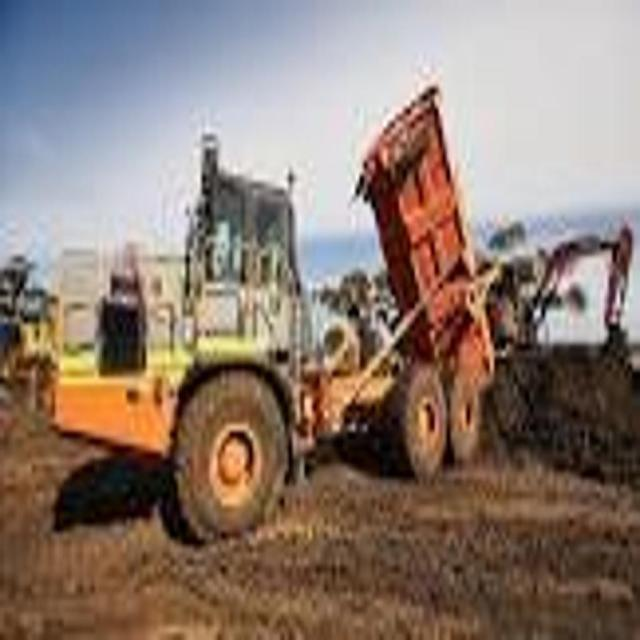dump_truck: (48, 79, 500, 539)
